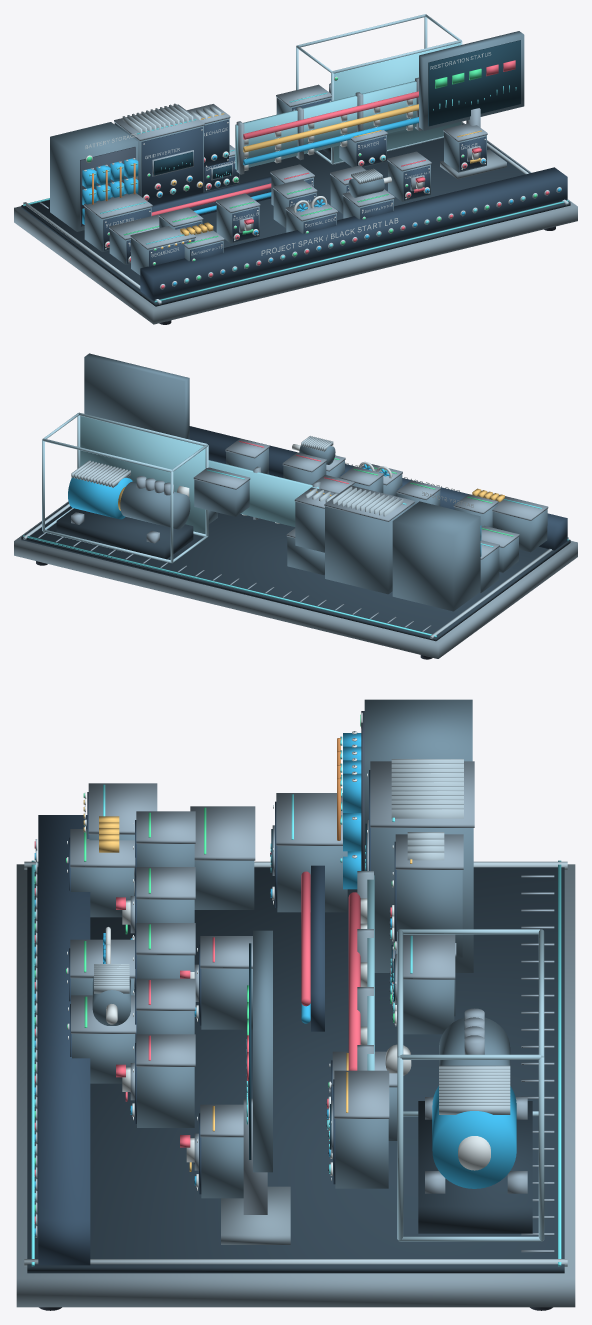
Rendered from Level59_Complete_ArtKit_Showcase.fbx.
3 renders of one model, top to bottom at view 1: azimuth 30°, elevation 25°; view 2: azimuth 150°, elevation 25°; view 3: azimuth 270°, elevation 25°, orthographic. The views are drawn at different scales.
Parts seen in each view (by area): view 1: Model::L59_IndustrialBlackStartBase__FrontControlConnectionB, Model::L59_IndustrialBlackStartBase__DiecastMainBed, Model::L59_IndustrialBlackStartBase__InsetNonConductiveDeck, Model::L59_HolographicRestorationMonitor__DisplayScreen, Model::L59_ThreePhaseACBus__ThreePhaseBusBackplate, Model::L59_BatteryStorageBank__BatteryCabinet, Model::L59_TransparentSafetyEnclosure__GeneratorGuardDoor, Model::L59_GridFormingInverter__FormingInverterFace, Model::L59_HolographicRestorationMonitor__DisplayFrame, Model::L59_BatteryStorageBank, Model::L59_DCPowerDistributionBus__DCPowerBackplate, Model::L59_ThreePhaseACBus__ACConductor0 (+42 smaller); view 2: Model::L59_IndustrialBlackStartBase__InsetNonConductiveDeck, Model::L59_IndustrialBlackStartBase__DiecastMainBed, Model::L59_BatteryStorageBank__BatteryCabinet, Model::L59_HolographicRestorationMonitor__DisplayFrame, Model::L59_TransparentSafetyEnclosure__GeneratorGuardDoor, Model::L59_GridFormingInverter__FormingInverterBody, Model::L59_BackupGenerator__GeneratorSkid, Model::L59_ThreePhaseACBus__ThreePhaseBusBackplate, Model::L59_IndustrialBlackStartBase__FrontControlConnectionB, Model::L59_BackupGenerator__GeneratorEngineBlock, Model::L59_BackupGenerator__AlternatorStator, Model::L59_PowerEnergyMeter__EnergyMeterBody (+20 smaller); view 3: Model::L59_IndustrialBlackStartBase__InsetNonConductiveDeck, Model::L59_IndustrialBlackStartBase__DiecastMainBed, Model::L59_IndustrialBlackStartBase__FrontControlConnectionB, Model::L59_BackupGenerator__GeneratorSkid, Model::L59_BatteryStorageBank__BatteryCabinet, Model::L59_BackupGenerator__AlternatorStator, Model::L59_GridFormingInverter__FormingInverterBody, Model::L59_HolographicRestorationMonitor__DisplayFrame, Model::L59_DCPrechargeModule__PrechargeUnitBody, Model::L59_GeneratorSynchronizationRelay__GenSyncRelayBody, Model::L59_Regulated5VControlSupply__Supply5VBody, Model::L59_NonessentialLoadBreakerB__NONESSENTIALBCabinetBod (+45 smaller).
Boxes of the visible parts, <box> form: Model::L59_IndustrialBlackStartBase__FrontControlConnectionB: <box>140,167,567,300</box>; Model::L59_IndustrialBlackStartBase__DiecastMainBed: <box>14,122,577,324</box>; Model::L59_IndustrialBlackStartBase__InsetNonConductiveDeck: <box>21,123,570,306</box>; Model::L59_HolographicRestorationMonitor__DisplayScreen: <box>428,40,520,126</box>; Model::L59_ThreePhaseACBus__ThreePhaseBusBackplate: <box>235,81,416,170</box>; Model::L59_BatteryStorageBank__BatteryCabinet: <box>50,122,137,231</box>; Model::L59_TransparentSafetyEnclosure__GeneratorGuardDoor: <box>334,42,460,162</box>; Model::L59_GridFormingInverter__FormingInverterFace: <box>141,127,202,204</box>; Model::L59_HolographicRestorationMonitor__DisplayFrame: <box>419,31,524,130</box>; Model::L59_BatteryStorageBank: <box>82,158,138,224</box>; Model::L59_DCPowerDistributionBus__DCPowerBackplate: <box>151,176,271,215</box>; Model::L59_ThreePhaseACBus__ACConductor0: <box>243,91,418,139</box>; Model::L59_IndustrialBlackStartBase__InsetNonConductiveDeck: <box>21,502,570,641</box>; Model::L59_IndustrialBlackStartBase__DiecastMainBed: <box>14,501,577,658</box>; Model::L59_BatteryStorageBank__BatteryCabinet: <box>392,501,480,611</box>; Model::L59_HolographicRestorationMonitor__DisplayFrame: <box>84,353,189,439</box>; Model::L59_TransparentSafetyEnclosure__GeneratorGuardDoor: <box>80,416,205,534</box>; Model::L59_GridFormingInverter__FormingInverterBody: <box>325,503,413,594</box>; Model::L59_BackupGenerator__GeneratorSkid: <box>56,508,193,559</box>; Model::L59_ThreePhaseACBus__ThreePhaseBusBackplate: <box>208,460,318,526</box>; Model::L59_IndustrialBlackStartBase__FrontControlConnectionB: <box>189,426,567,550</box>; Model::L59_BackupGenerator__GeneratorEngineBlock: <box>120,481,190,529</box>; Model::L59_BackupGenerator__AlternatorStator: <box>68,477,132,519</box>; Model::L59_PowerEnergyMeter__EnergyMeterBody: <box>194,479,249,516</box>; Model::L59_IndustrialBlackStartBase__InsetNonConductiveDeck: <box>27,867,564,1273</box>; Model::L59_IndustrialBlackStartBase__DiecastMainBed: <box>16,864,575,1307</box>; Model::L59_IndustrialBlackStartBase__FrontControlConnectionB: <box>38,815,90,1265</box>; Model::L59_BackupGenerator__GeneratorSkid: <box>418,1101,532,1233</box>; Model::L59_BatteryStorageBank__BatteryCabinet: <box>364,699,472,870</box>; Model::L59_BackupGenerator__AlternatorStator: <box>432,1086,516,1188</box>; Model::L59_GridFormingInverter__FormingInverterBody: <box>371,828,473,972</box>; Model::L59_HolographicRestorationMonitor__DisplayFrame: <box>253,930,272,1172</box>; Model::L59_DCPrechargeModule__PrechargeUnitBody: <box>396,870,462,957</box>; Model::L59_GeneratorSynchronizationRelay__GenSyncRelayBody: <box>335,1119,388,1188</box>; Model::L59_Regulated5VControlSupply__Supply5VBody: <box>277,846,347,912</box>; Model::L59_NonessentialLoadBreakerB__NONESSENTIALBCabinetBod: <box>137,1067,194,1127</box>.
Size of the model in its own units: 1084 by 363 by 610.
